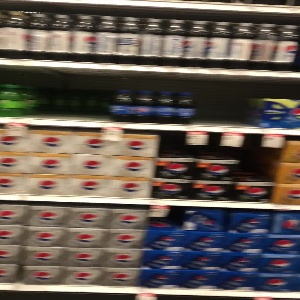void: (26, 68, 111, 122), (196, 79, 257, 127)
